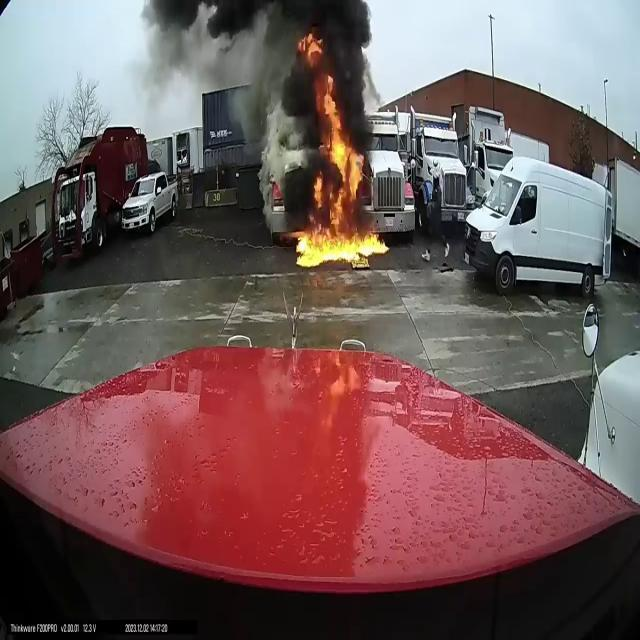Fire: (293, 73, 387, 267)
Smoke: (145, 0, 384, 153)
